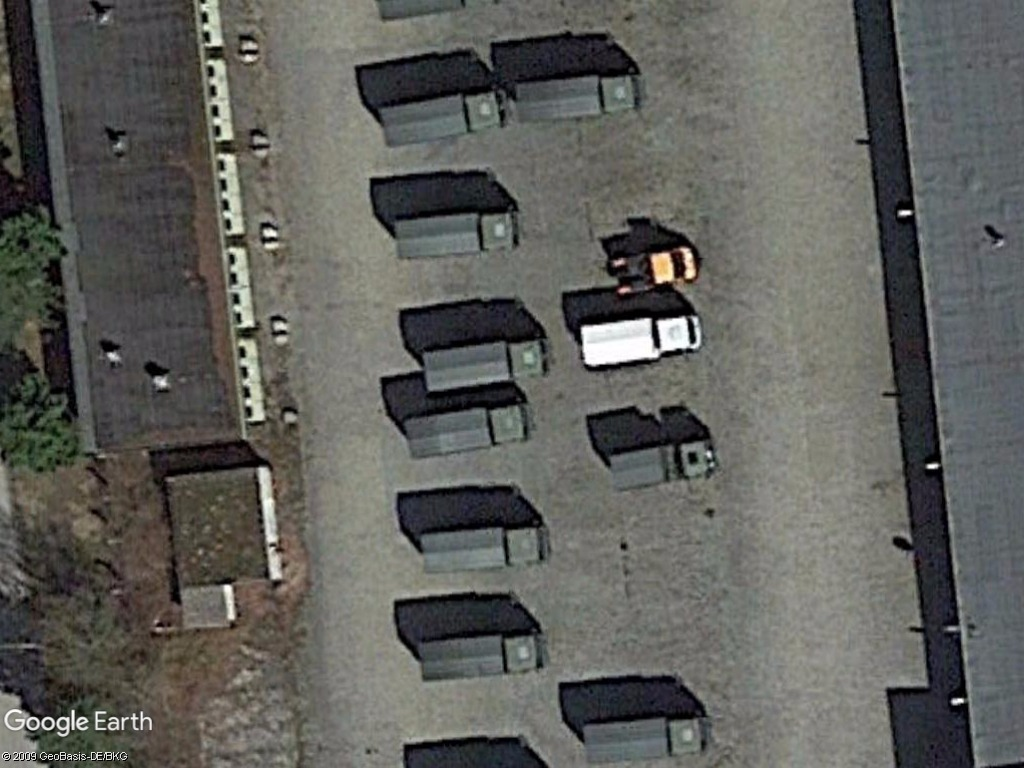truck: (417, 334, 556, 401), (376, 80, 508, 150), (573, 310, 701, 378), (411, 521, 549, 583), (407, 628, 552, 687), (403, 398, 532, 463), (387, 206, 524, 265), (508, 69, 646, 127), (600, 434, 718, 501), (577, 713, 715, 768)
